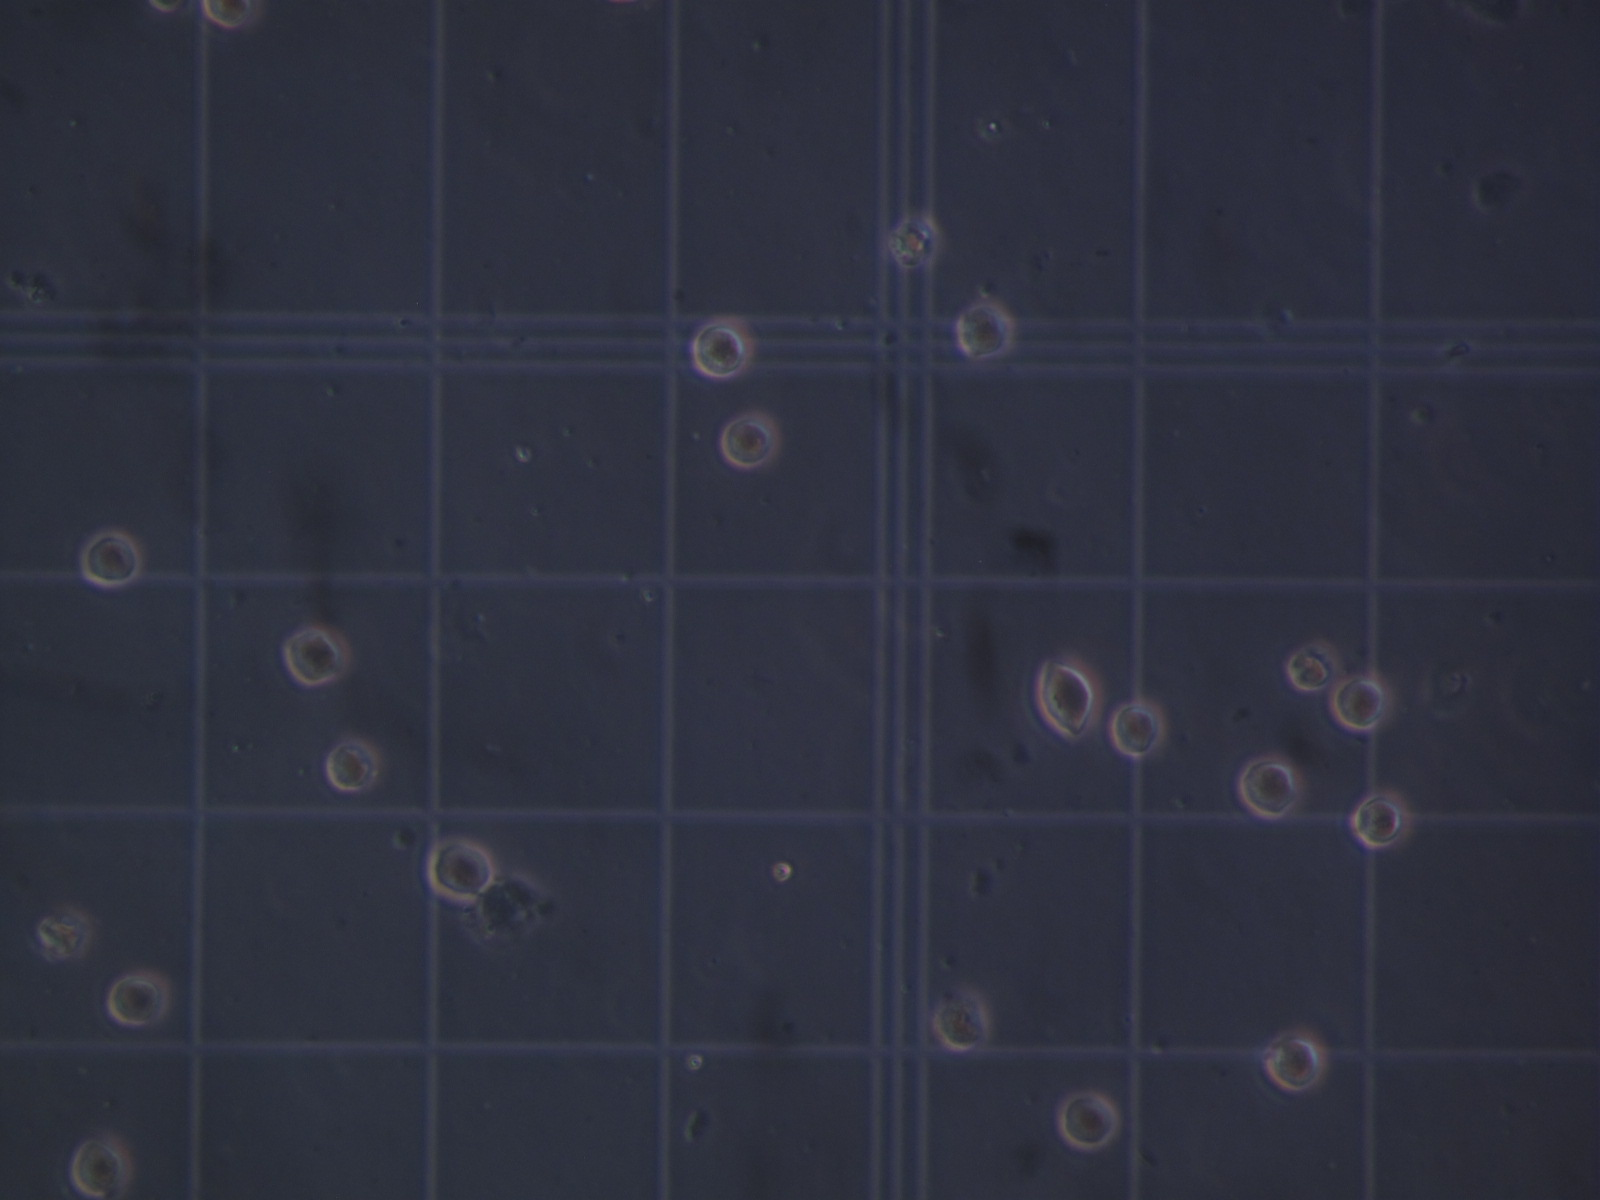hemo: (1036, 650, 1102, 737), (71, 1128, 132, 1197), (692, 313, 753, 378), (1056, 1088, 1120, 1150), (1240, 755, 1301, 818), (431, 839, 495, 899), (1266, 1030, 1327, 1092), (82, 529, 144, 589), (282, 626, 341, 687), (110, 969, 174, 1025), (721, 411, 781, 468), (956, 304, 1015, 361), (1112, 697, 1168, 758), (1353, 792, 1410, 848), (326, 736, 384, 792), (1330, 672, 1386, 729), (935, 997, 990, 1053), (888, 214, 939, 271), (1288, 645, 1340, 693), (202, 1, 261, 34)
